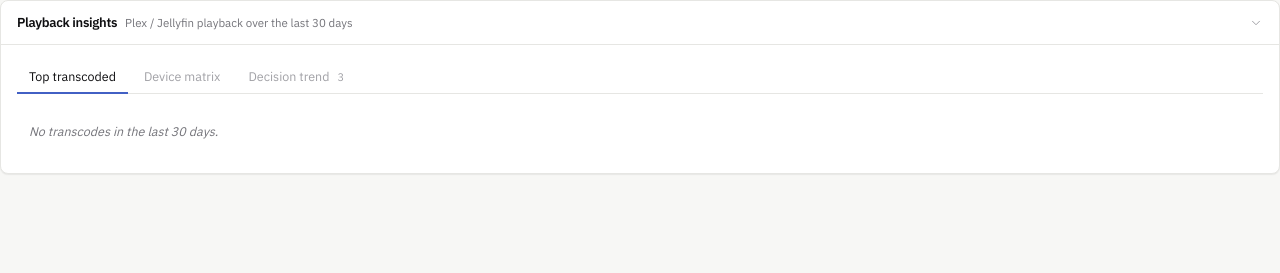
Test: v1.9 Stage 6.5 — PlaybackStatsCard partial-data hardening › renders trend points with null fields in '(unknown)' buckets
Click the tab "Decision trend3": (296, 77) [236,61,356,94]
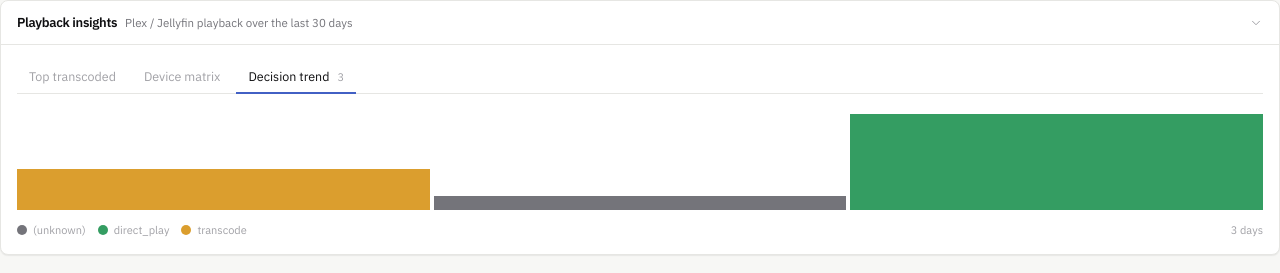
Now the element with test id "playback-decision-trend" is shown, box [17,106,1263,238]
